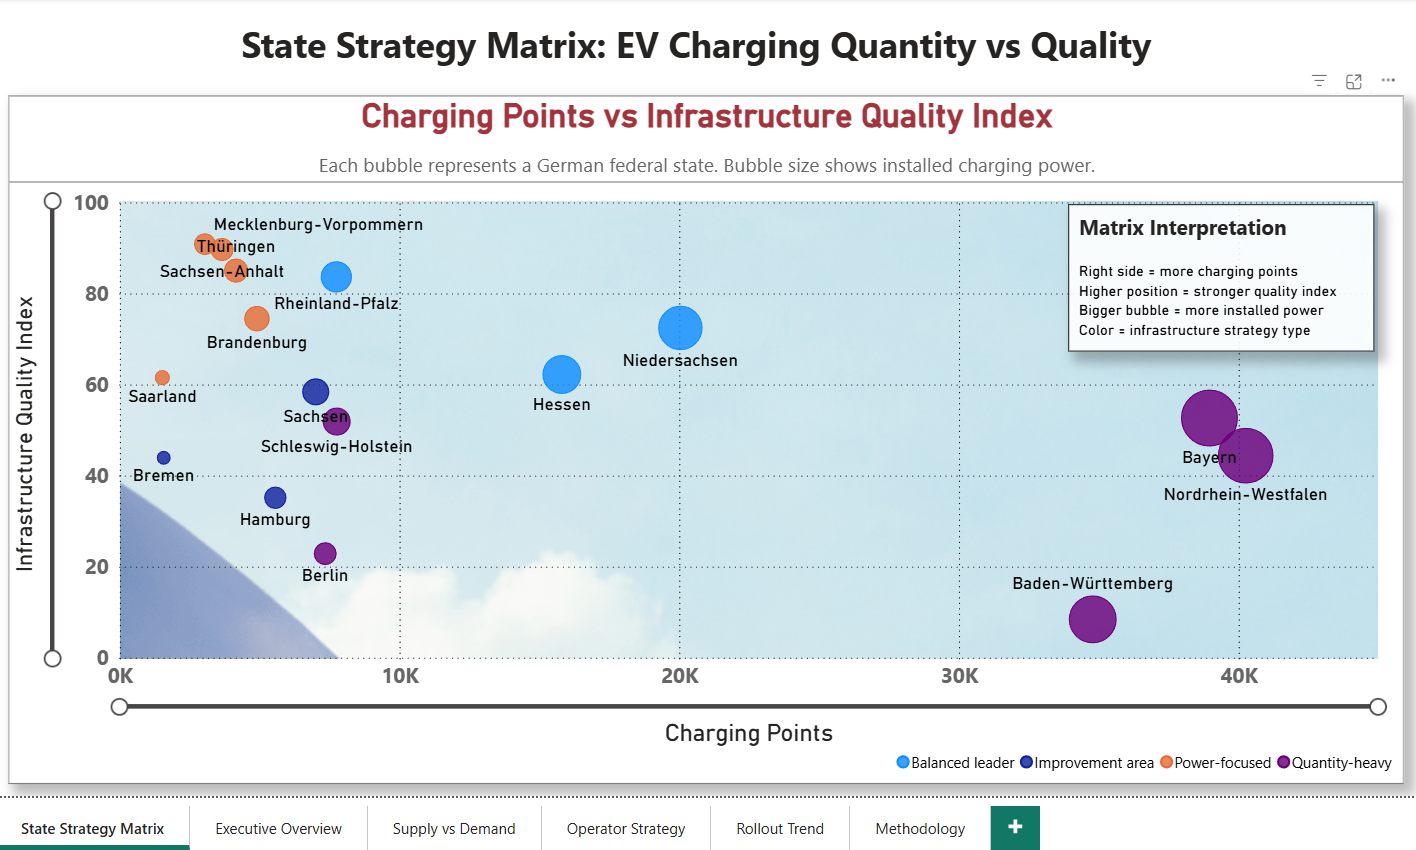

The dashboard page shown, as its layout file describes it:
{"tool":"powerbi","page":{"name":"State Strategy Matrix","canvas":[1280,720],"ordinal":0},"visuals":[{"type":"scatterChart","title":"Charging Points vs Infrastructure Quality Index","fields":{"X":["Sum(State_Quality_Index.charging_points)"],"Y":["Sum(State_Quality_Index.quality_index_v2)"],"Size":["Sum(State_Quality_Index.installed_power_mw)"],"Category":["State_Quality_Index.state"],"Series":["State_Quality_Index.Strategy"]},"box":[10.1,88,1258.6,620.7],"z":0},{"type":"textbox","box":[215.7,14.3,847.1,58.6],"z":1000},{"type":"textbox","box":[965.7,185.7,275.7,132.9],"z":2000}]}

Visuals, with their boxes on the page's 1280x720 design canvas (x1, y1, x2, y2). These are canvas units, not pixel positions in the 1416x850 screenshot, which may show the page scaled, cropped or inside an application window:
"Charging Points vs Infrastructure Quality Index" scatterChart: Rect(10, 88, 1269, 709)
textbox: Rect(216, 14, 1063, 73)
textbox: Rect(966, 186, 1241, 319)
